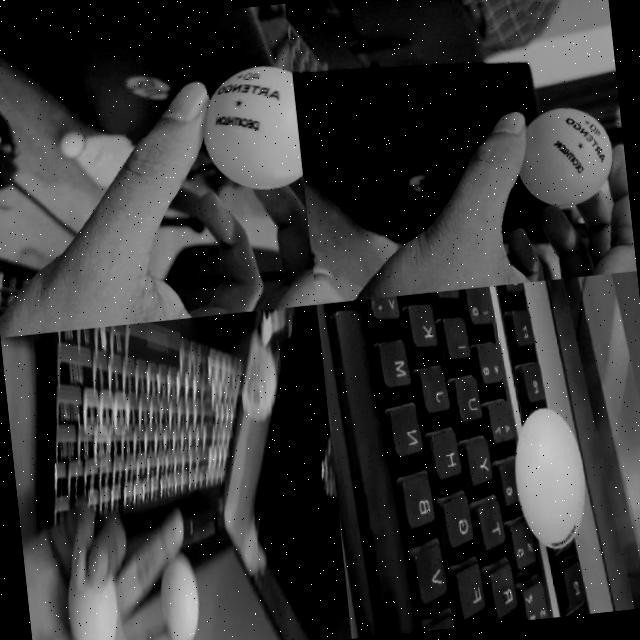ping-pong-ball: (200, 65, 304, 196), (506, 403, 592, 552), (512, 102, 618, 210), (62, 566, 124, 640), (154, 550, 204, 640)
